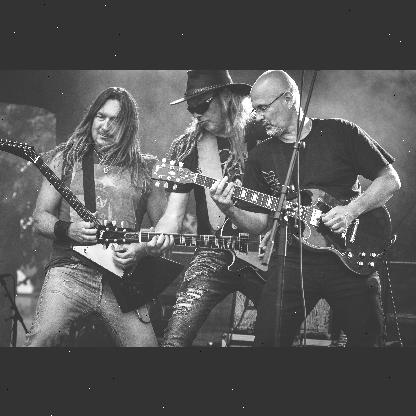guitar: (1, 137, 183, 311), (150, 158, 394, 282), (92, 212, 284, 278)
